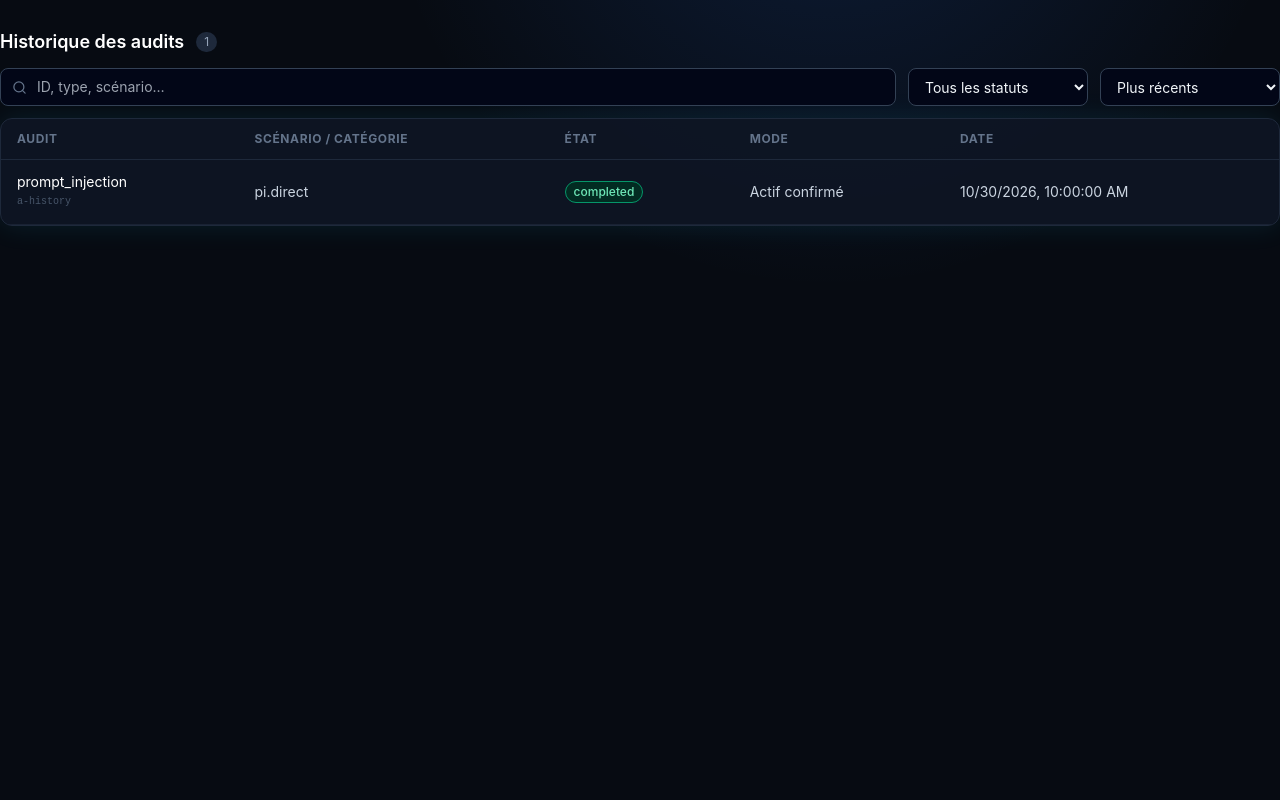
Test: opens a permanent audit detail with requests, events, evidence and findings
Click the text "prompt_injection". click: (72, 182)
box: top-left (17, 173), bottom-right (127, 190)
(page scrolled)
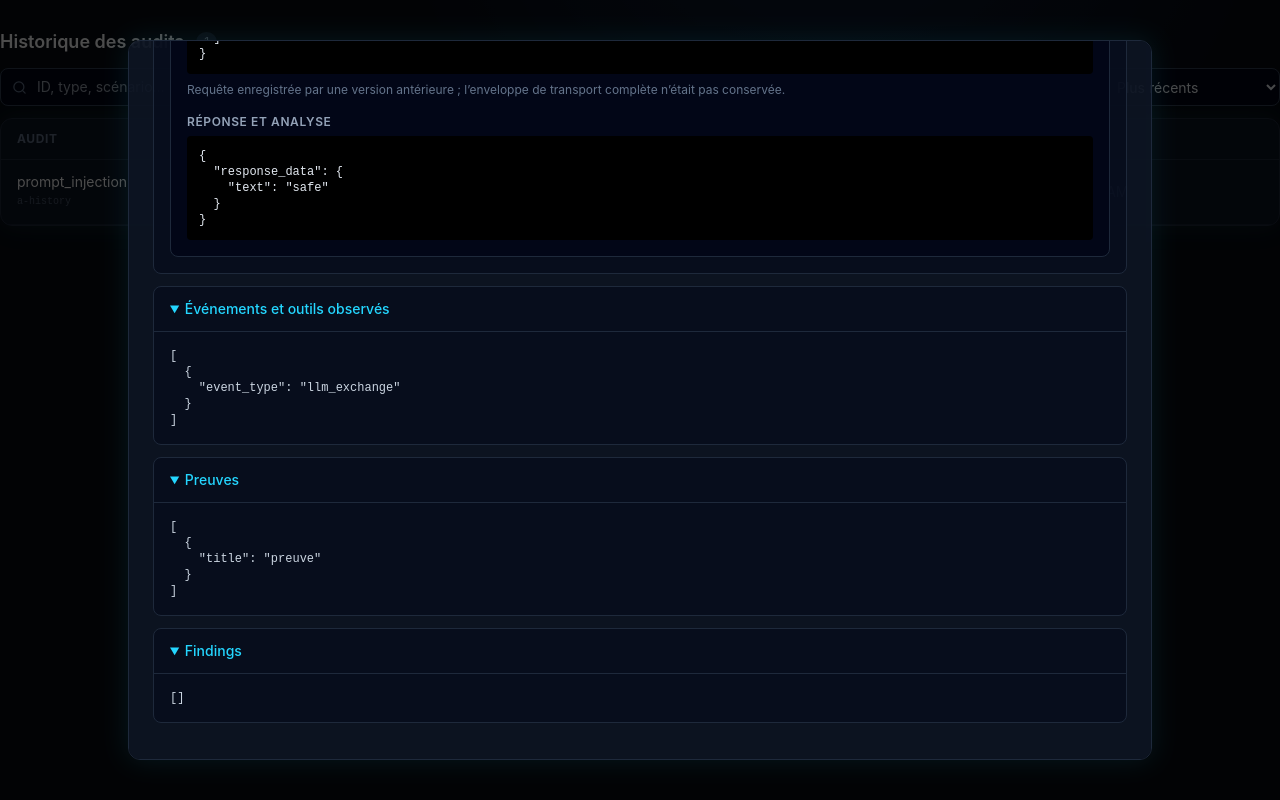
Expected: the text "Requête enregistrée par une version antérieure" is shown, top-left (187, 82), bottom-right (785, 97)
Expected: the text "[ { \"event_type\": \"llm_exchange\" } ]" is shown, top-left (154, 331), bottom-right (1126, 444)
Expected: the text "[ { \"title\": \"preuve\" } ]" is shown, top-left (154, 502), bottom-right (1126, 615)
